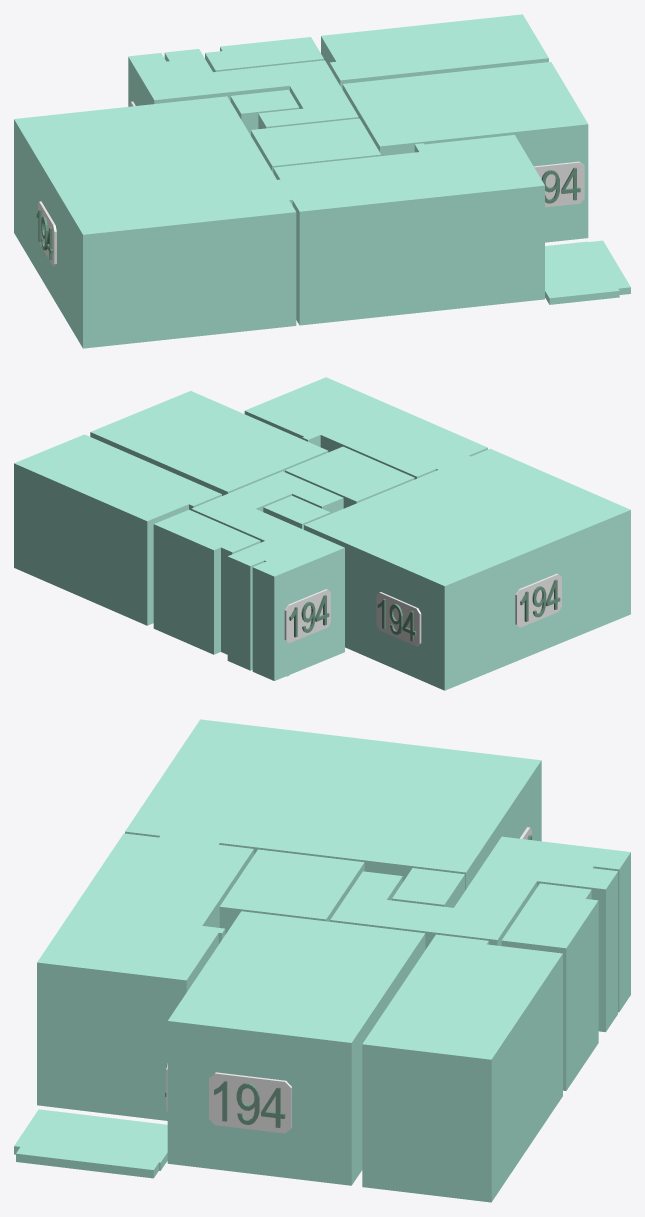
The picture shows the model from 3 angles, top to bottom: view 1: azimuth 30°, elevation 25°; view 2: azimuth 150°, elevation 25°; view 3: azimuth 270°, elevation 25°; orthographic projection. The views are drawn at different scales.
Visible parts, largest first — view 1: g_7, g_6, g_0, g_1, g_3, g_4, g_8, g_2, g_5, g_16, g_12; view 2: g_7, g_1, g_3, g_0, g_6, g_2, g_4, g_12, g_20, g_28, g_5; view 3: g_0, g_7, g_1, g_6, g_3, g_2, g_8, g_4, g_24, g_5.
Boxes of the visible parts, left/top/right/bottom form: g_7: left=14, top=96, right=296, bottom=348; g_6: left=273, top=135, right=544, bottom=325; g_0: left=342, top=62, right=588, bottom=242; g_1: left=321, top=14, right=548, bottom=89; g_3: left=128, top=49, right=358, bottom=129; g_4: left=251, top=118, right=381, bottom=172; g_8: left=545, top=240, right=630, bottom=304; g_2: left=205, top=37, right=323, bottom=72; g_5: left=230, top=90, right=299, bottom=135; g_16: left=534, top=161, right=584, bottom=207; g_12: left=38, top=201, right=56, bottom=266; g_7: left=304, top=448, right=630, bottom=690; g_1: left=14, top=434, right=221, bottom=625; g_3: left=191, top=471, right=344, bottom=680; g_0: left=90, top=391, right=328, bottom=495; g_6: left=244, top=377, right=487, bottom=479; g_2: left=153, top=509, right=260, bottom=654; g_4: left=285, top=446, right=414, bottom=508; g_12: left=515, top=573, right=561, bottom=627; g_20: left=284, top=589, right=330, bottom=642; g_28: left=376, top=592, right=421, bottom=646; g_5: left=263, top=495, right=330, bottom=529; g_0: left=167, top=911, right=425, bottom=1185; g_7: left=125, top=719, right=541, bottom=890; g_1: left=362, top=934, right=562, bottom=1202; g_6: left=37, top=833, right=253, bottom=1120; g_3: left=330, top=836, right=630, bottom=1032; g_2: left=501, top=883, right=598, bottom=1090; g_8: left=14, top=1109, right=167, bottom=1178; g_4: left=219, top=849, right=364, bottom=934; g_24: left=209, top=1072, right=291, bottom=1133; g_5: left=392, top=868, right=464, bottom=907.
Bounding box in the file's own units: 13.16 × 2.74 × 10.08.
